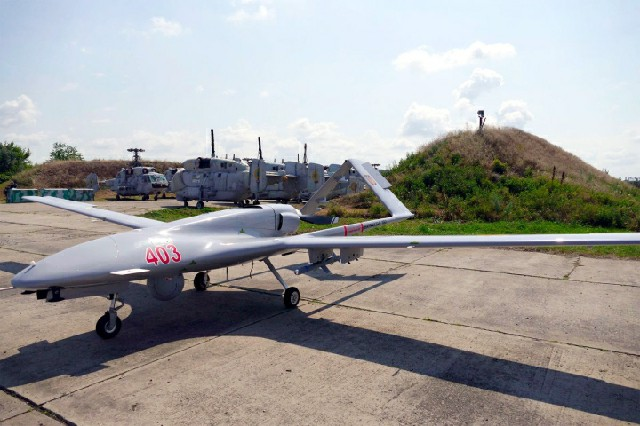maybay_khongnguoilai: (18, 162, 637, 335)
